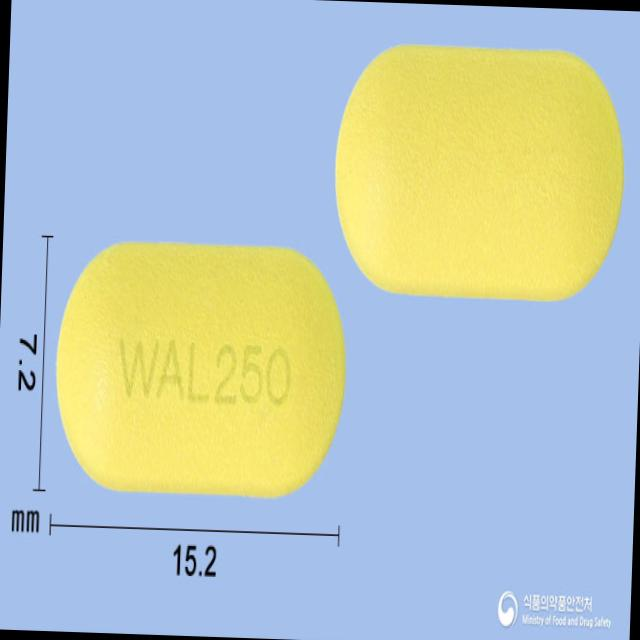Clotin: (51, 238, 350, 498)
